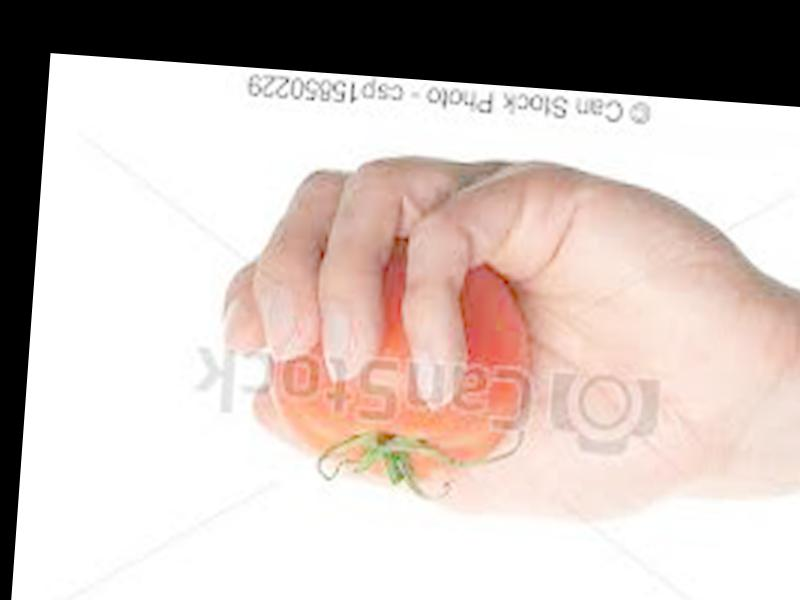Tomato: (263, 237, 531, 486)
